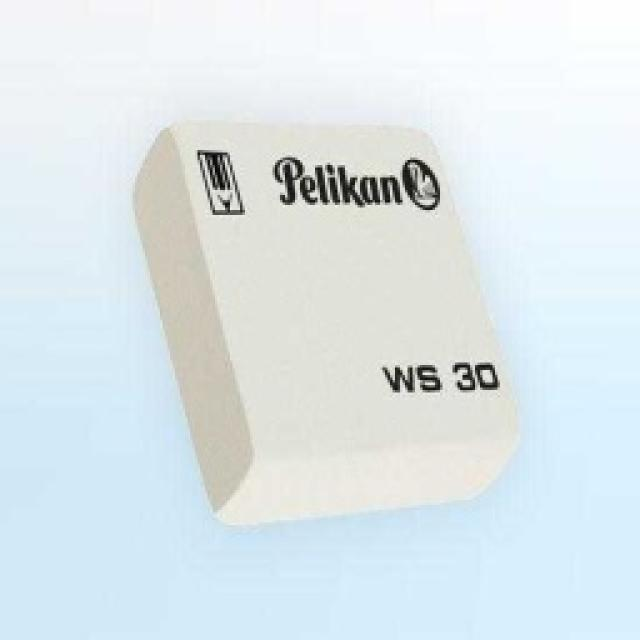Silgi: (133, 120, 522, 529)
